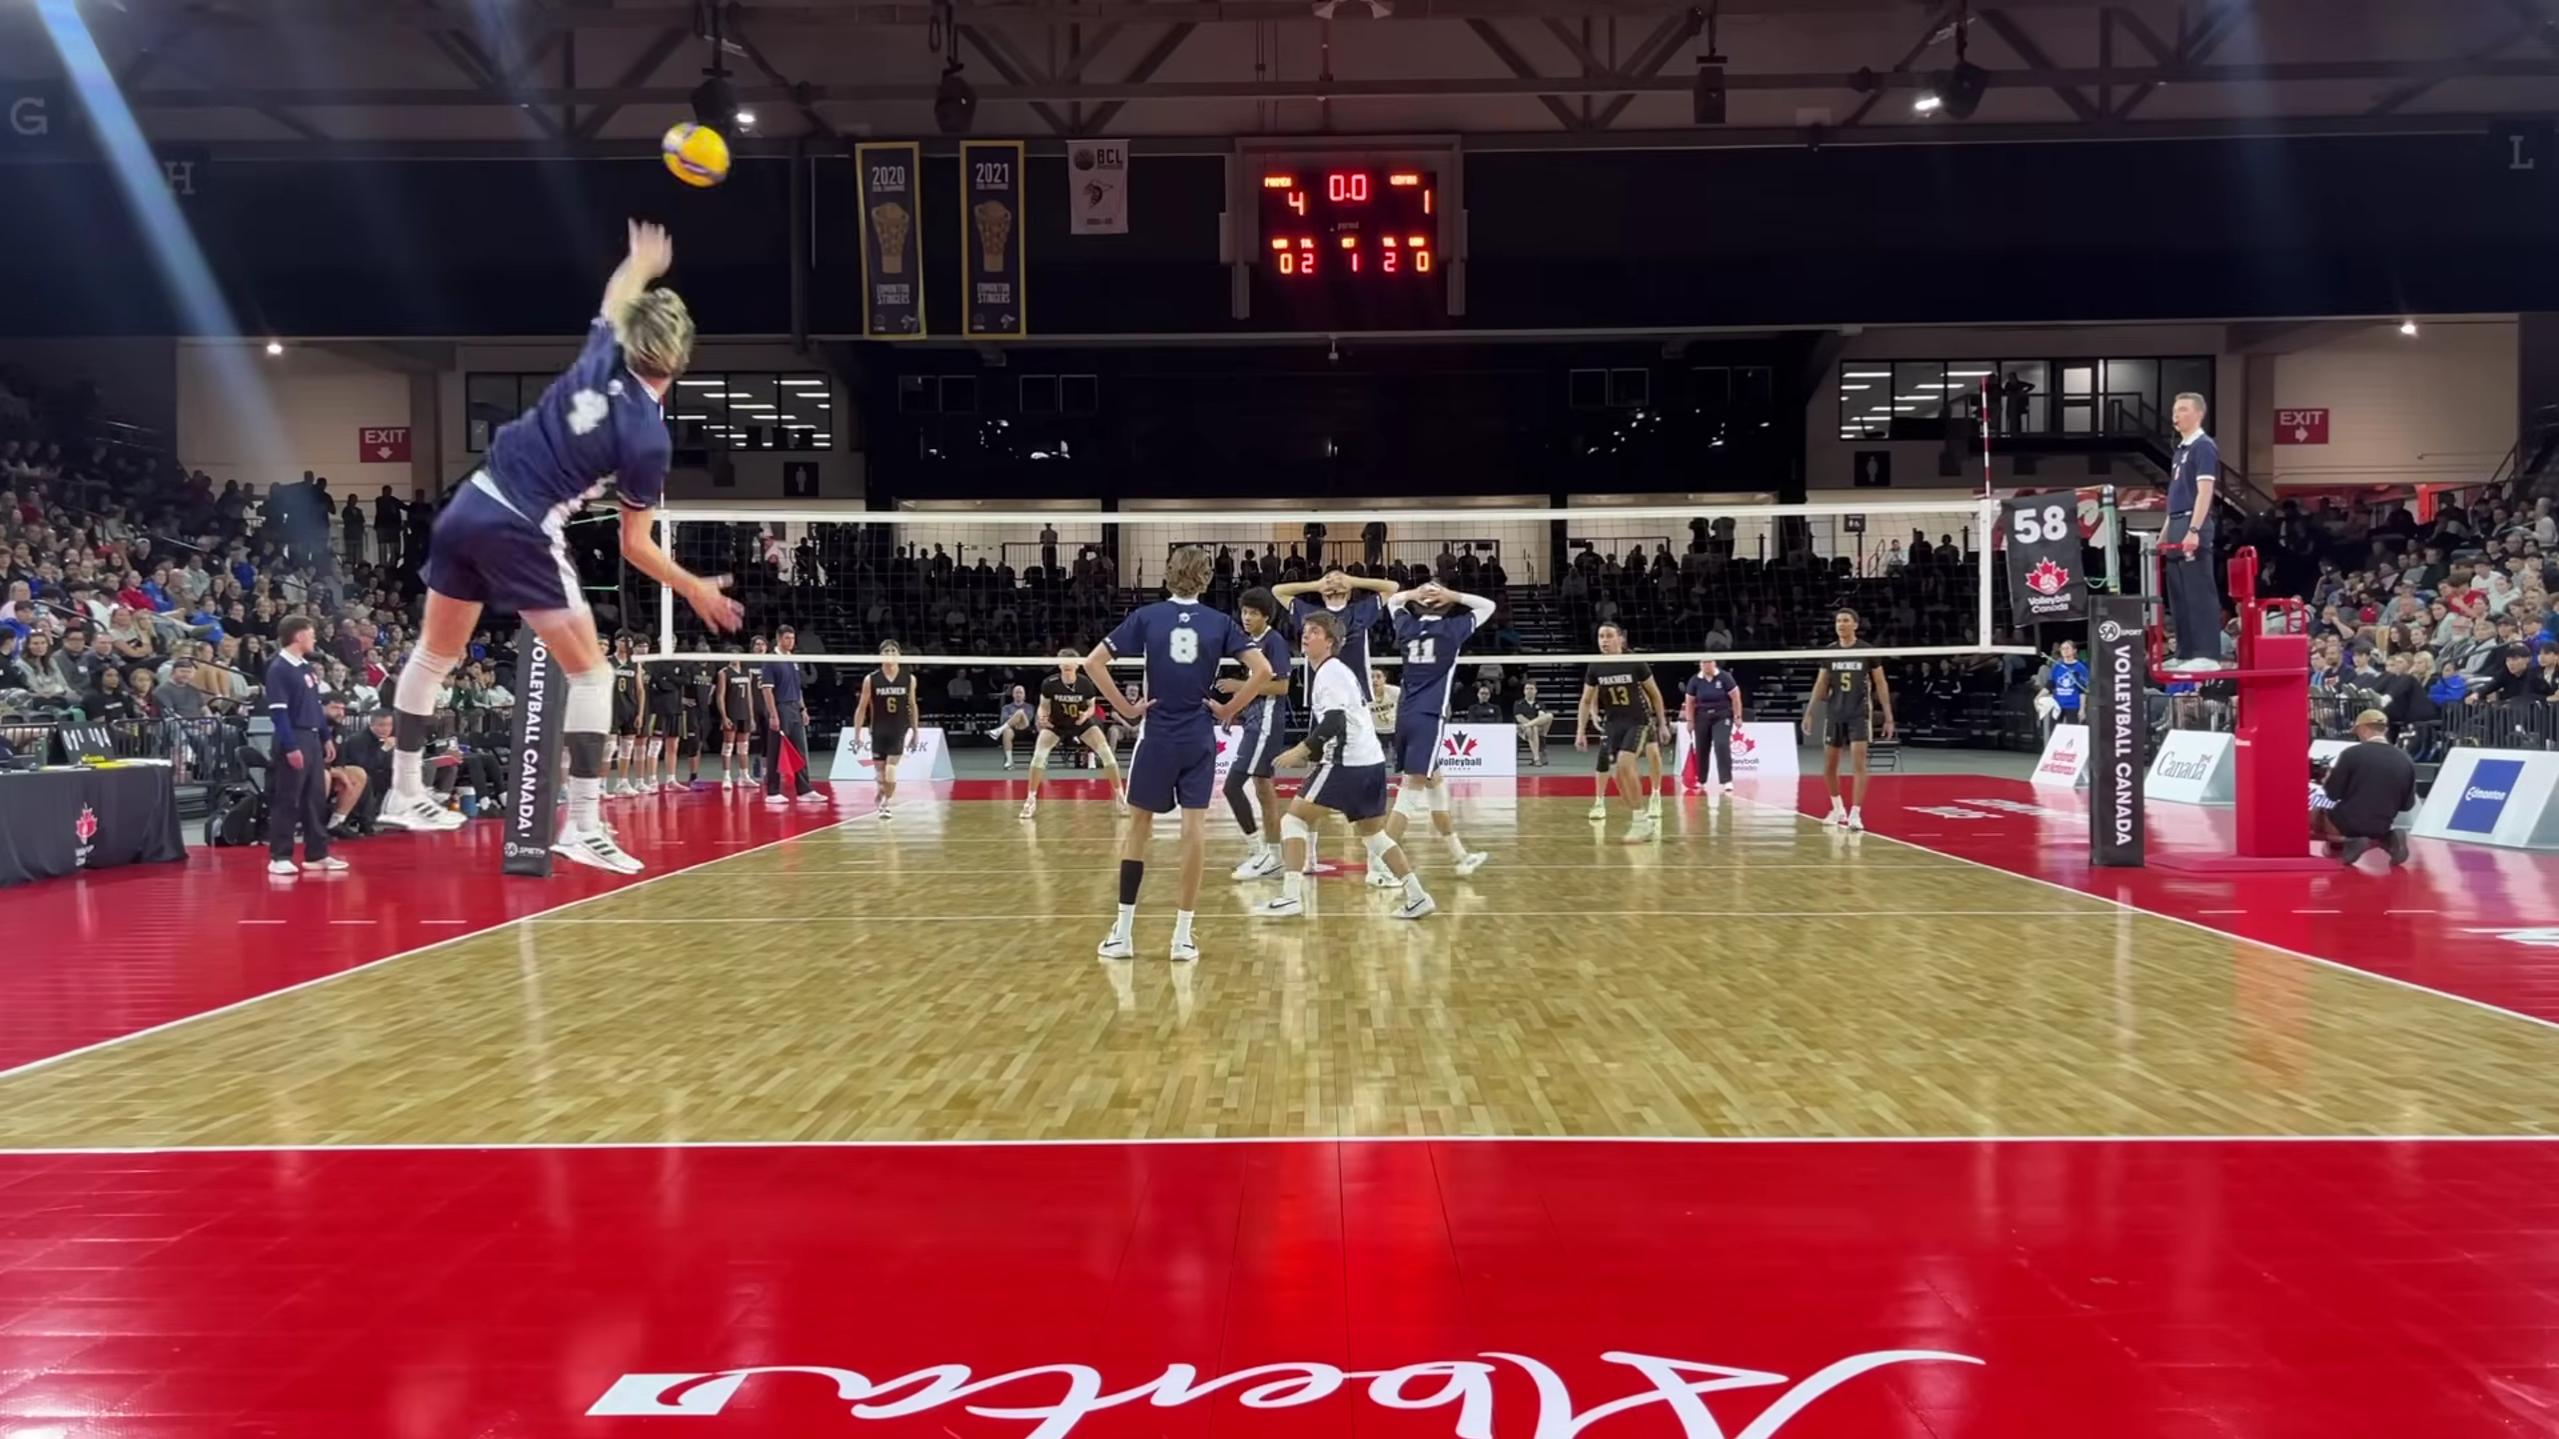Ball: (659, 119, 733, 190)
